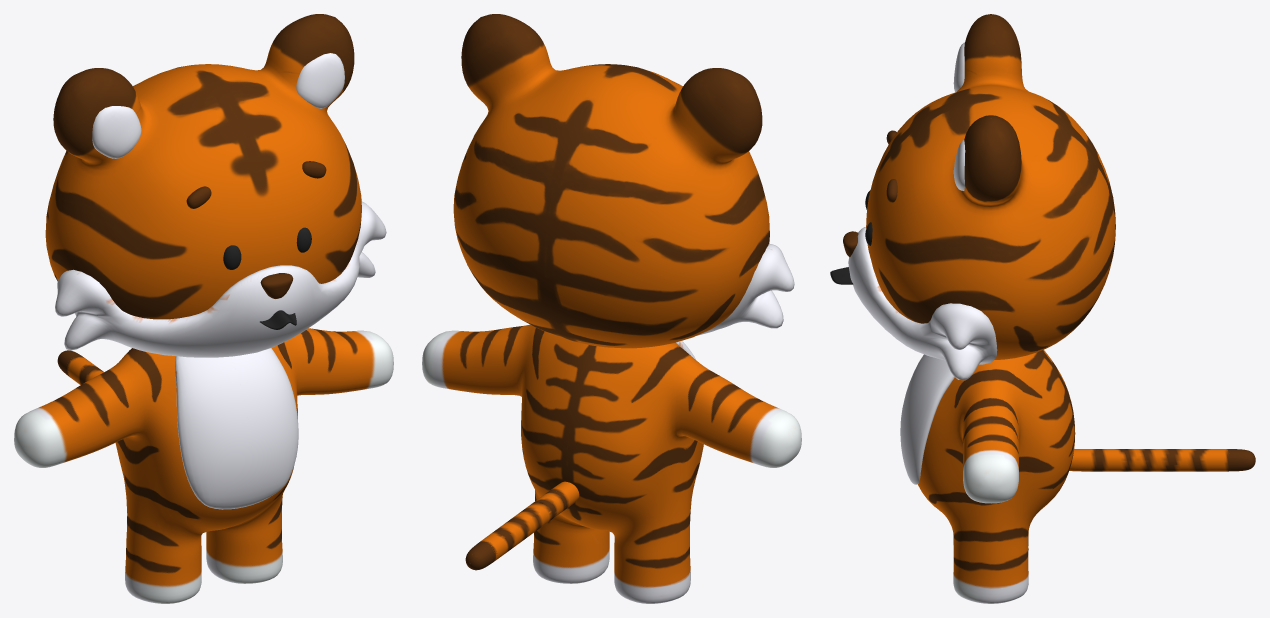
The model's file is Tiger Character.fbx.
The picture shows the model from 3 angles, left to right: view 1: azimuth 30°, elevation 25°; view 2: azimuth 150°, elevation 25°; view 3: azimuth 270°, elevation 25°; orthographic projection. The views are drawn at different scales.
Parts seen in each view (by area): view 1: head, body, body 2, head 2, ear 2, tail, eyebrown, eyes, nose; view 2: head, body, tail, head 2; view 3: head, body, head 2, tail, body 2, ear 2.
Boxes of the visible parts, left/top/right/bottom form: head: left=45, top=14, right=361, bottom=319; body: left=14, top=328, right=393, bottom=603; body 2: left=175, top=348, right=298, bottom=509; head 2: left=55, top=201, right=386, bottom=357; ear 2: left=92, top=53, right=344, bottom=158; tail: left=57, top=350, right=103, bottom=384; eyebrown: left=186, top=161, right=326, bottom=208; eyes: left=223, top=227, right=311, bottom=269; nose: left=260, top=273, right=293, bottom=298; head: left=453, top=14, right=769, bottom=348; body: left=422, top=324, right=801, bottom=603; tail: left=465, top=481, right=579, bottom=570; head 2: left=697, top=244, right=794, bottom=335; head: left=866, top=14, right=1115, bottom=359; body: left=918, top=349, right=1075, bottom=603; head 2: left=848, top=227, right=997, bottom=380; tail: left=1069, top=449, right=1255, bottom=471; body 2: left=900, top=354, right=954, bottom=484; ear 2: left=953, top=42, right=965, bottom=190.
Size of the model in its own units: 258 by 357 by 273.
6 materials, 4 textured.
